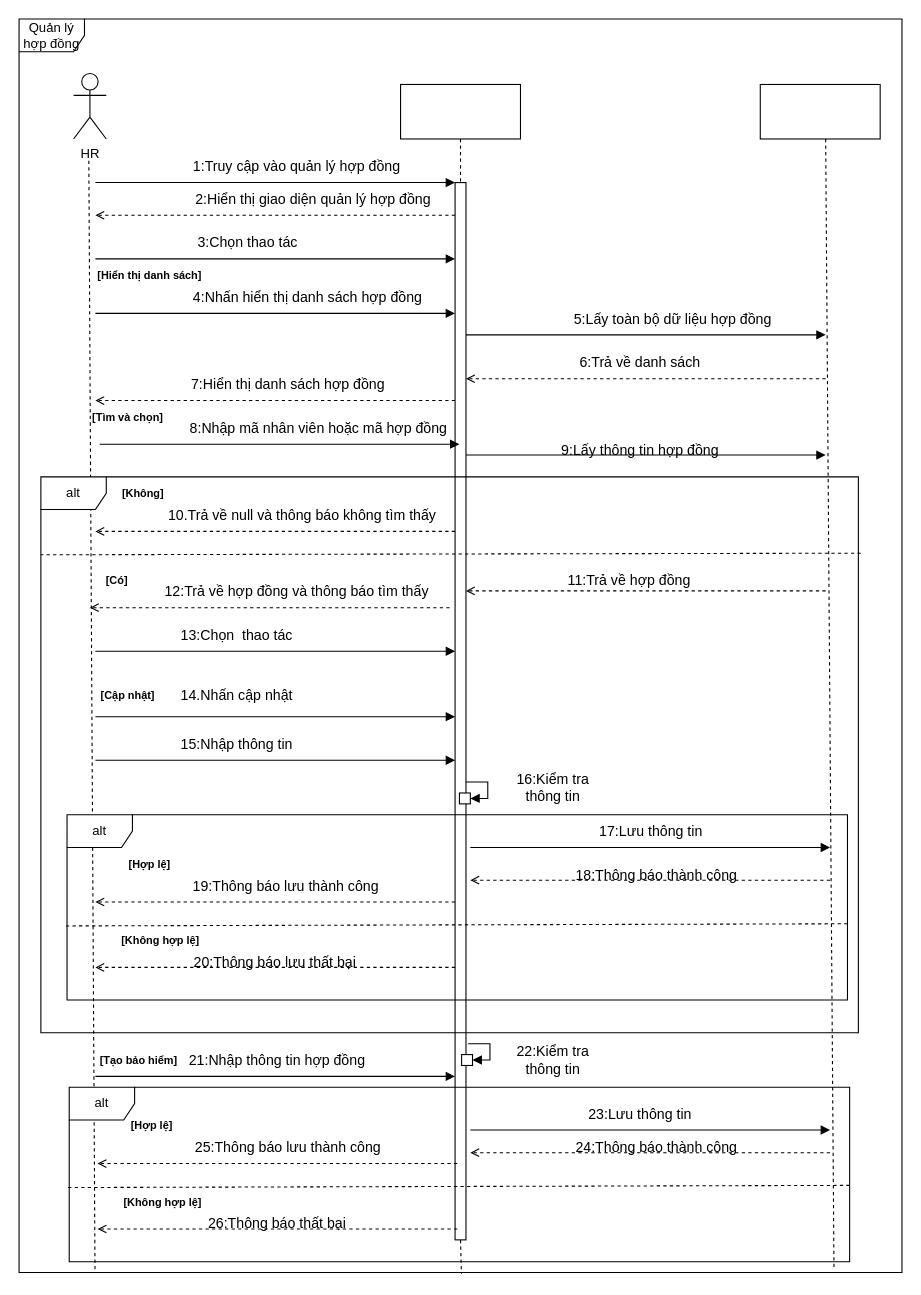
Some shapes in this 921 by 1295 pixel diagram are drawn without their labels. The shapes that lost their labels are listed below. From the top down, each one's centre as x and y in pixels, then its label:
(459,111): Hệ thống
(819,111): Cơ sở dữ liệu hợp đồng
